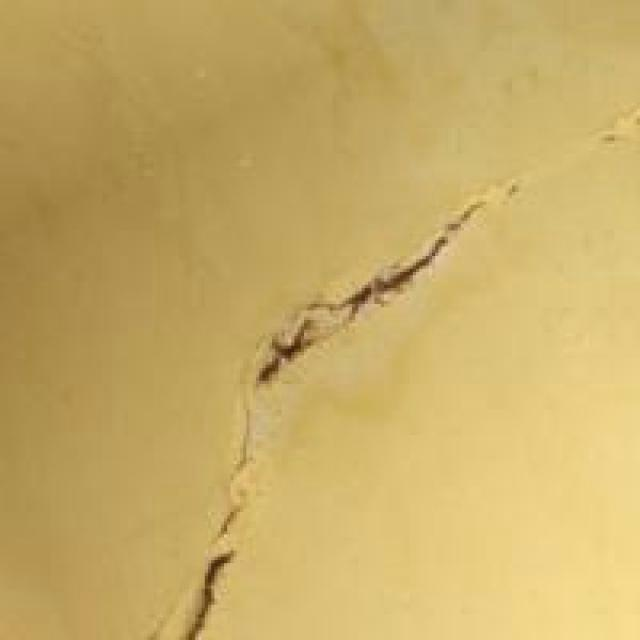SurfaceCrack: (152, 162, 532, 640)
